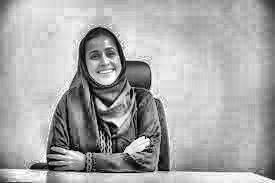Happy: (76, 23, 135, 97)
